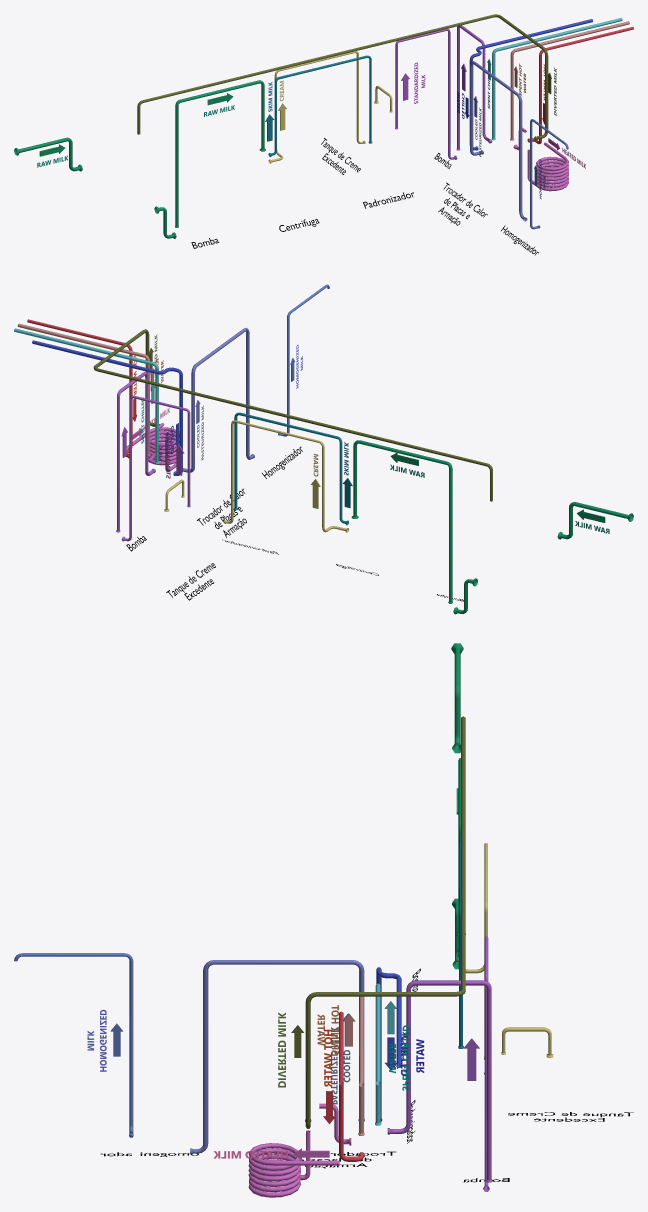
Rendered from teste2.glb.
The picture shows the model from 3 angles, top to bottom: view 1: azimuth 30°, elevation 25°; view 2: azimuth 150°, elevation 25°; view 3: azimuth 270°, elevation 25°; orthographic projection. The views are drawn at different scales.
Parts seen in each view (by area): view 1: Circle.020, Circle.003, Circle.015, Circle.005, Circle.011, Circle.014, Circle.006, Circle.009, Circle.012, Circle.013, Circle.016, Circle.007 (+3 smaller); view 2: Circle.020, Circle.005, Circle.015, Circle.006, Circle.009, Circle.003, Circle.011, Circle.014, Circle.007, Circle.016, Circle.012, Circle.013 (+2 smaller); view 3: Circle.003, Circle.020, Circle.015, Circle.011, Circle.018, Circle.016, Circle.013, Circle.009, Circle.014, Circle.017.
Part boxes in pixels (x1,y1,x2,y2): Circle.020: (137, 14, 548, 140); Circle.003: (527, 142, 568, 191); Circle.015: (470, 61, 527, 221); Circle.005: (175, 80, 265, 227); Circle.011: (456, 25, 492, 150); Circle.014: (491, 18, 622, 140); Circle.006: (268, 55, 372, 156); Circle.009: (395, 28, 457, 159); Circle.012: (510, 21, 629, 140); Circle.013: (527, 27, 633, 144); Circle.016: (469, 19, 592, 150); Circle.007: (268, 51, 365, 163); Circle.020: (93, 329, 492, 501); Circle.005: (351, 440, 452, 603); Circle.015: (183, 327, 254, 472); Circle.006: (233, 412, 348, 525); Circle.009: (121, 395, 190, 541); Circle.003: (126, 427, 179, 472); Circle.011: (116, 372, 155, 532); Circle.014: (14, 328, 159, 463); Circle.007: (223, 420, 348, 532); Circle.016: (32, 340, 182, 475); Circle.012: (17, 323, 150, 456); Circle.013: (27, 319, 132, 458); Circle.003: (248, 1130, 339, 1197); Circle.020: (305, 716, 465, 1128); Circle.015: (190, 960, 364, 1154); Circle.011: (387, 980, 492, 1182); Circle.018: (14, 953, 133, 1137); Circle.016: (376, 967, 401, 1121); Circle.013: (339, 1011, 364, 1161); Circle.009: (483, 936, 489, 1191); Circle.014: (375, 983, 381, 1125); Circle.017: (451, 643, 463, 753).
Size of the model in its own units: 14.3 by 3.64 by 8.3.
Materials: 31 (12 with a texture image).
